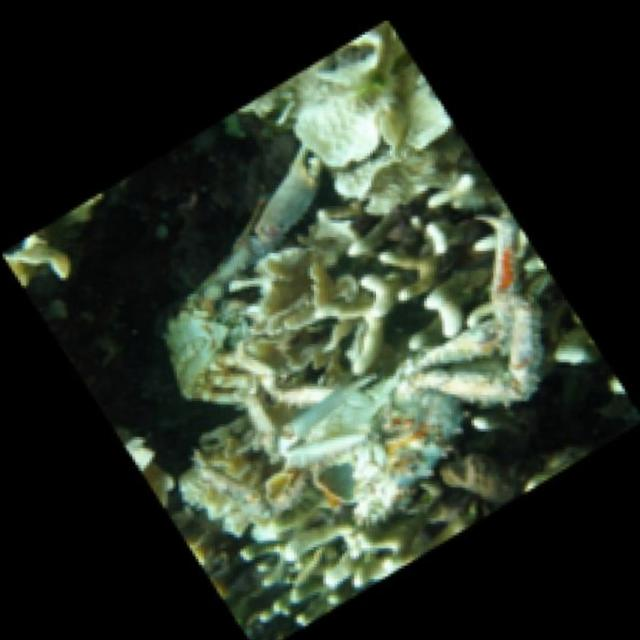Dead Coral: (231, 198, 510, 392), (167, 425, 313, 550)
